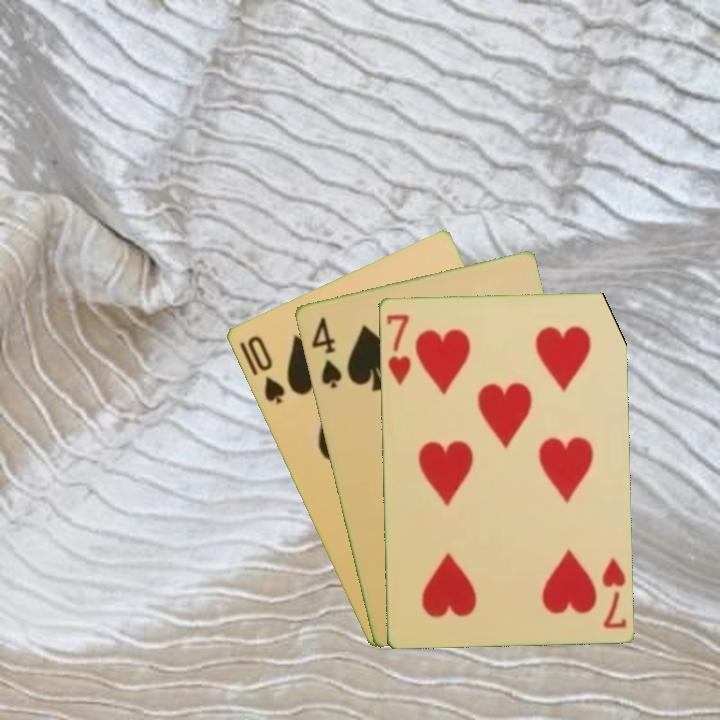10s: (243, 331, 288, 407)
4s: (307, 313, 345, 392)
7h: (382, 310, 413, 388), (598, 553, 629, 631)
